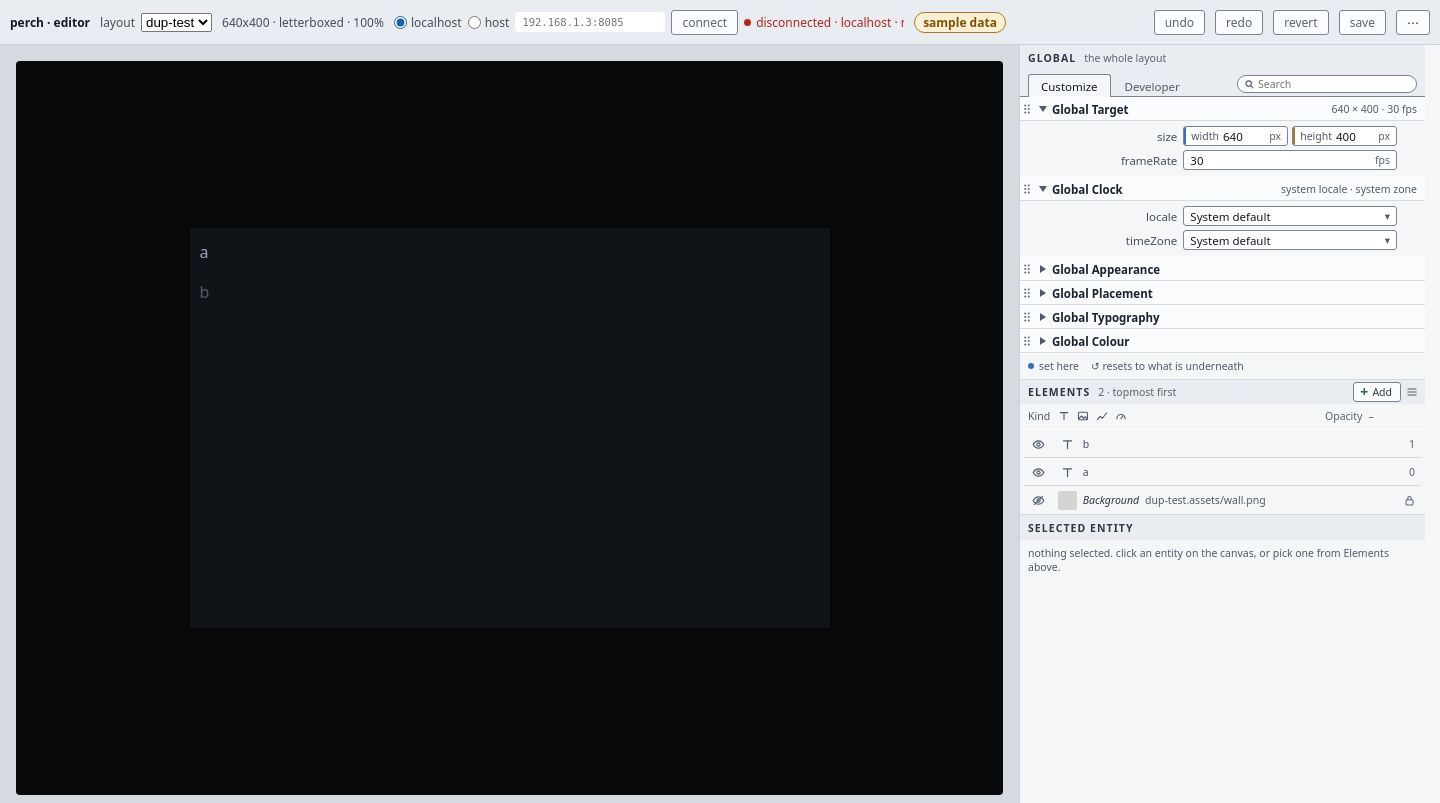
Test case: duplicating an element › puts a copy directly above it on Mod+D, selects the copy, and undoes in one step
Click the button "a 0": (1067, 472) [1052, 458, 1421, 486]
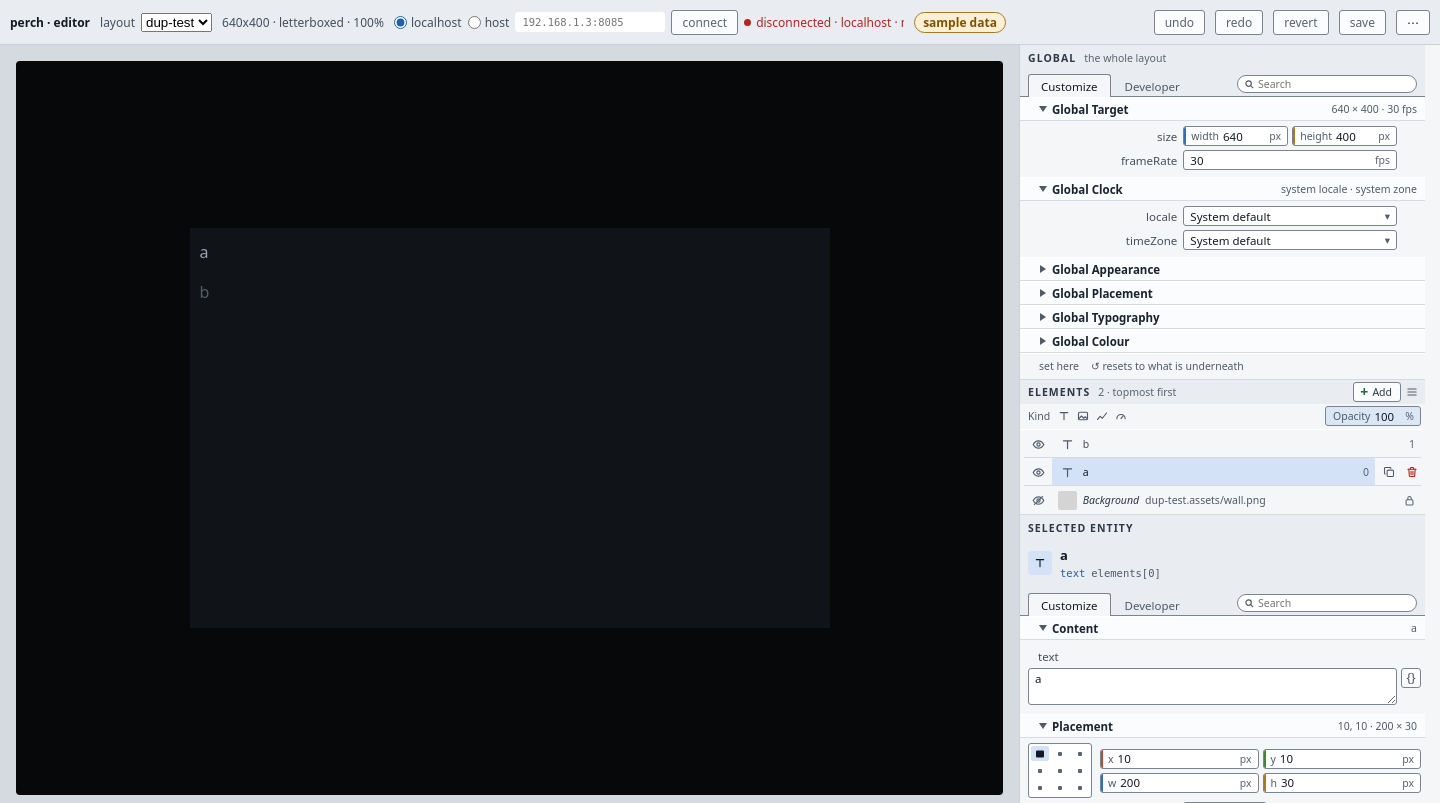
Press d in the element with test id "perch-editor-preview"
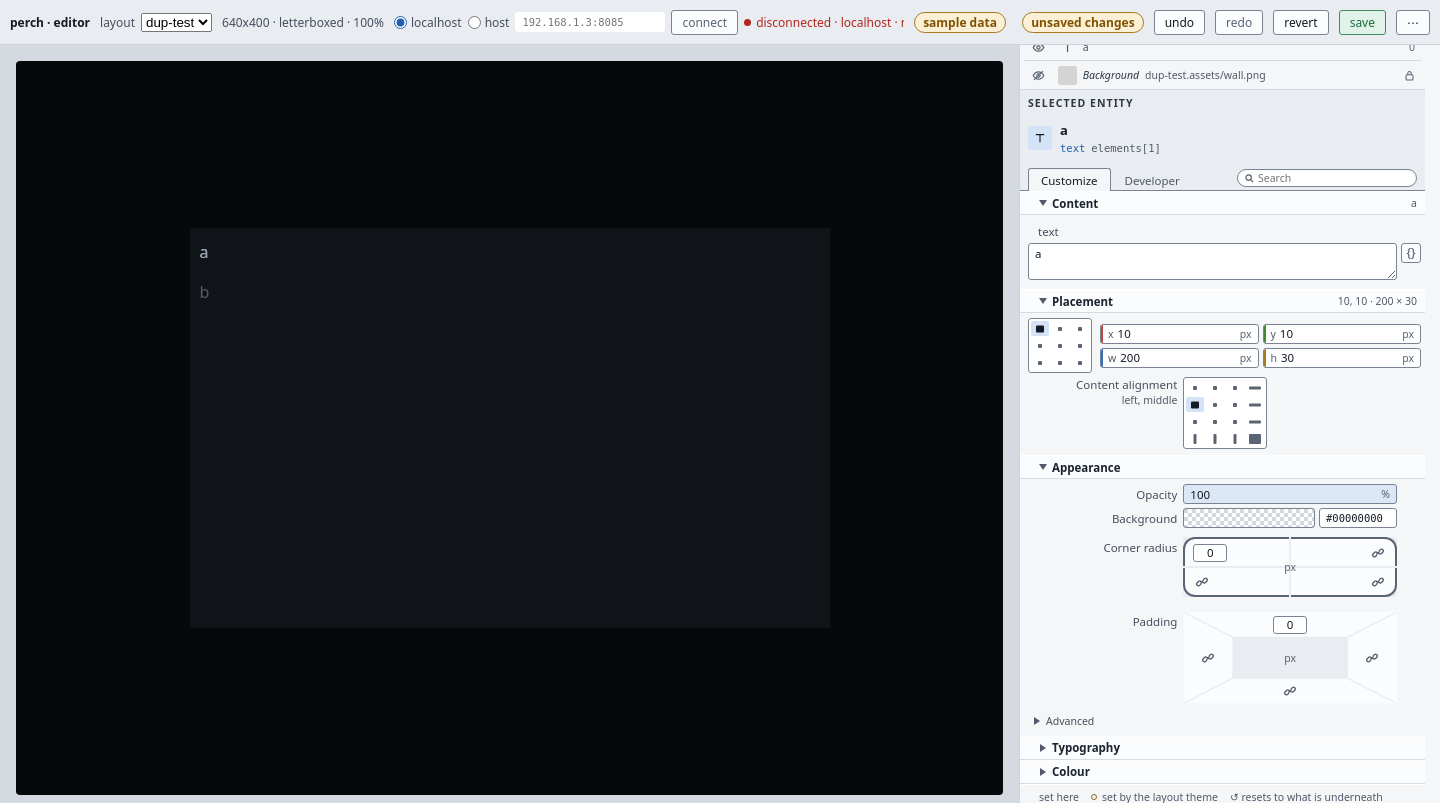
Click the button "undo": (1179, 22) [1154, 10, 1205, 34]
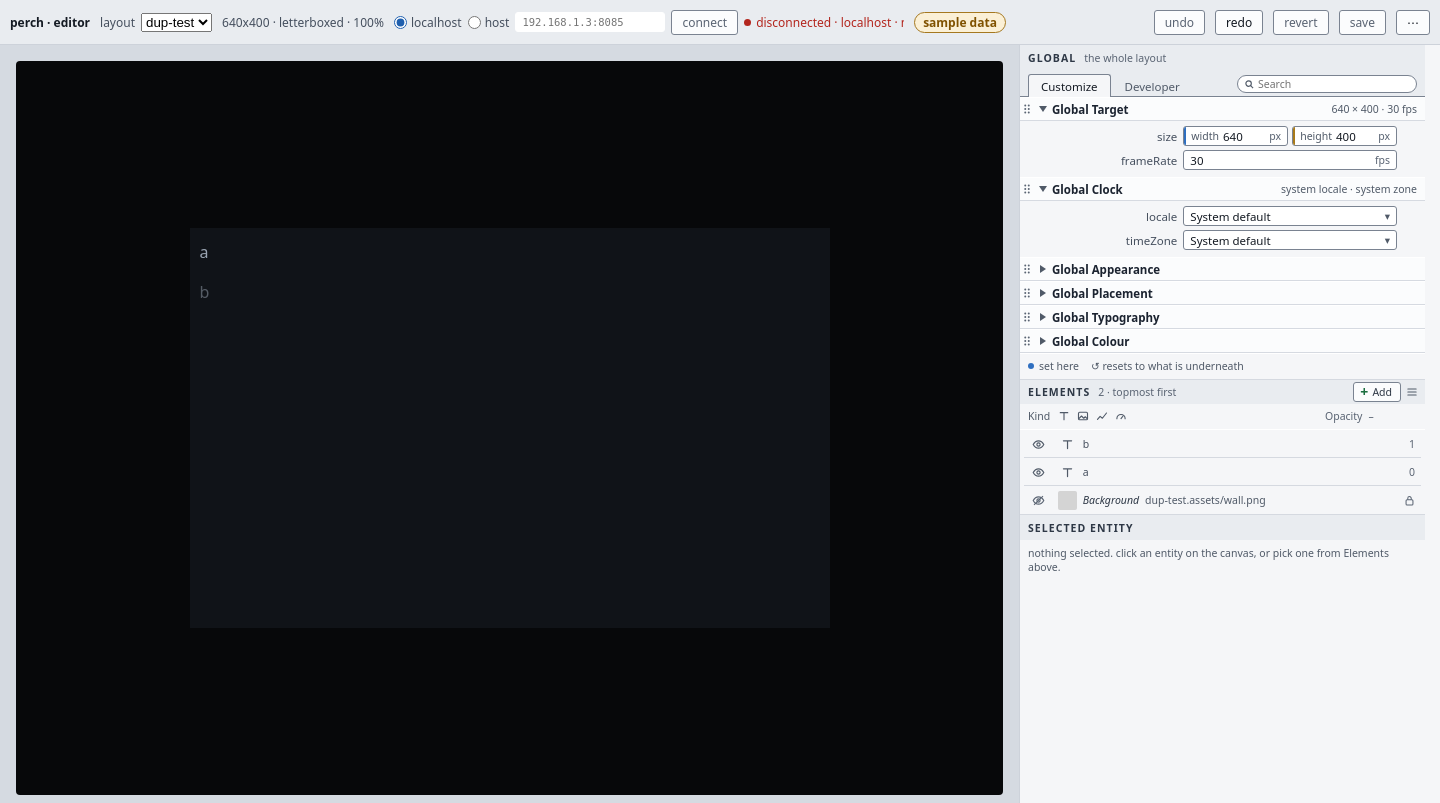
Expected: the button "undo" is disabled, [1154, 10, 1205, 34]
